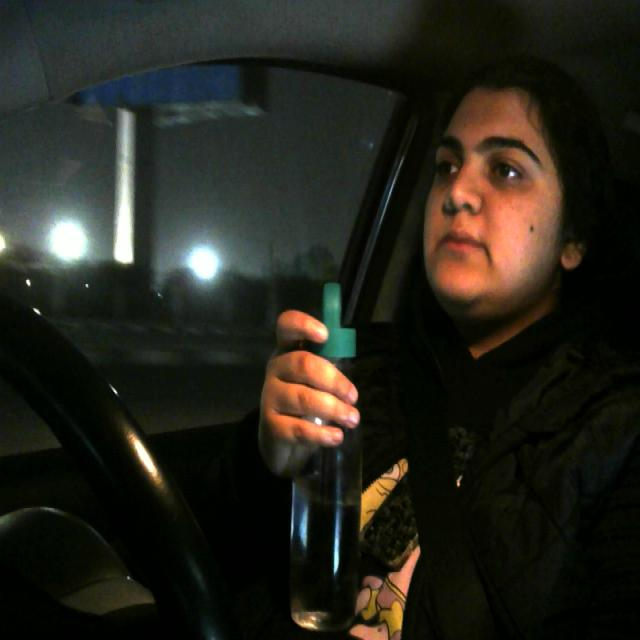drinking: (278, 284, 366, 632)
